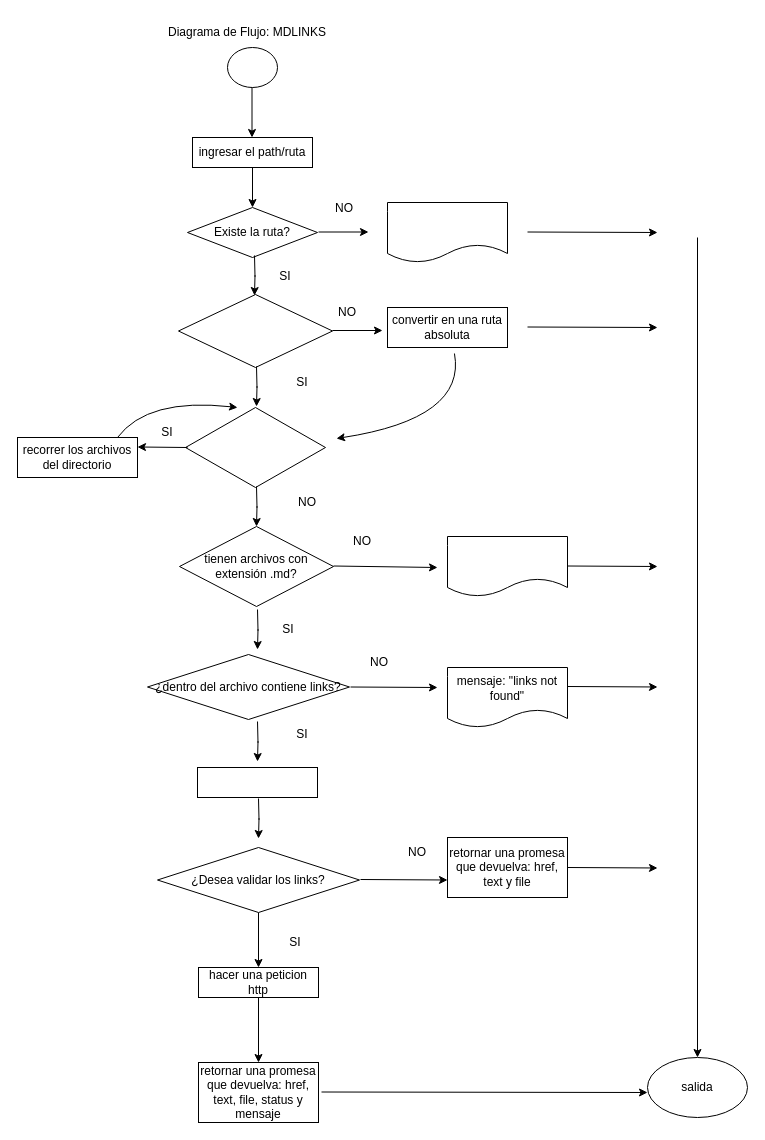
The diagram is 765 pixels wide and 1140 high, and some of its shapes have lost their labels. The shapes that lost their labels are listed below. From the top down, each one's centre as x and y in pixels, then its label:
point (252, 67): Entrada
point (447, 232): mensaje: "Path does not exist"
point (255, 331): ¿Conozco si la ruta es relativa o absoluta?
point (255, 447): ¿La ruta esta en un directorio?
point (507, 566): mensaje: "there is no .md file"
point (257, 782): extraer los links
